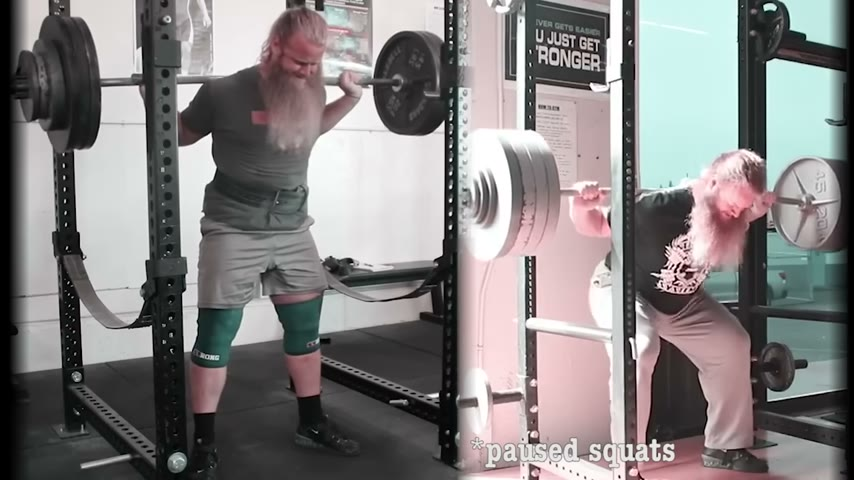barbell_plate_side: (2, 7, 107, 155), (383, 30, 469, 145)
